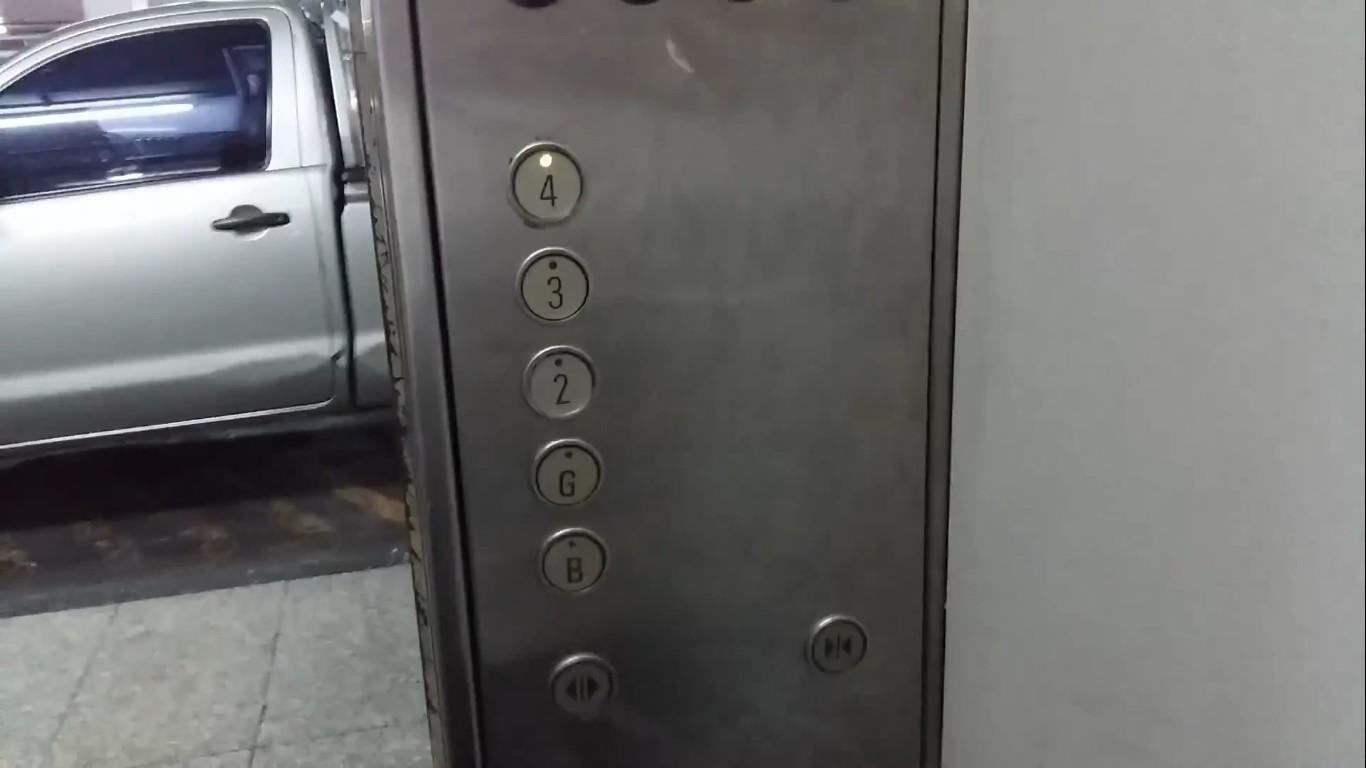2: (517, 339, 600, 424)
3: (511, 242, 593, 326)
4: (501, 135, 588, 233)
B: (535, 523, 611, 597)
G: (526, 432, 606, 511)
close: (805, 610, 869, 679)
open: (545, 648, 619, 717)
